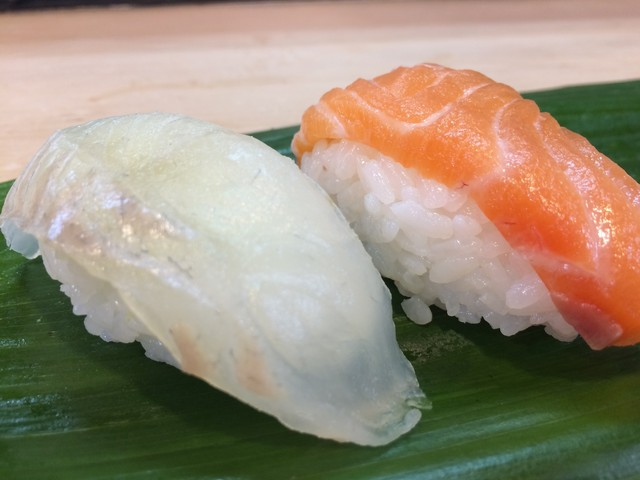salmon: (284, 57, 640, 363)
